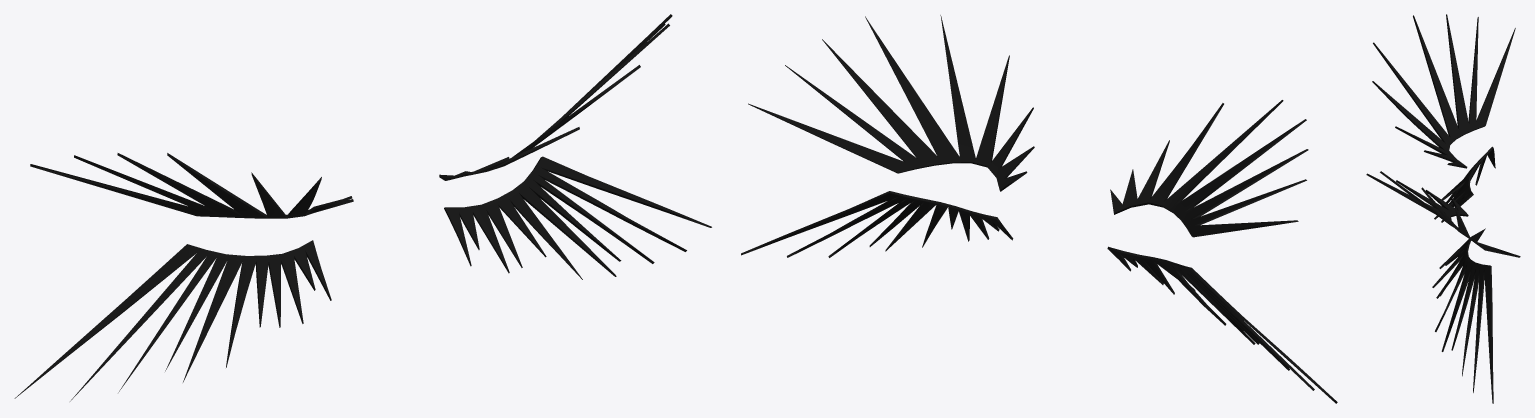
3 renders of one model, left to right at view 1: azimuth 30°, elevation 25°; view 2: azimuth 150°, elevation 25°; view 3: azimuth 270°, elevation 25°, orthographic. The views are drawn at different scales.
Visible parts, largest first — view 1: Wolf3D_Glasses.058; view 2: Wolf3D_Glasses.058; view 3: Wolf3D_Glasses.058.
Part boxes in pixels (<box>): Wolf3D_Glasses.058: <box>14,14,711,401</box>; Wolf3D_Glasses.058: <box>741,15,1337,403</box>; Wolf3D_Glasses.058: <box>1366,14,1520,403</box>.
Bounding box in the file's own units: 0.1875 × 0.0699 × 0.0516.
Materials: 1 (1 with a texture image).
